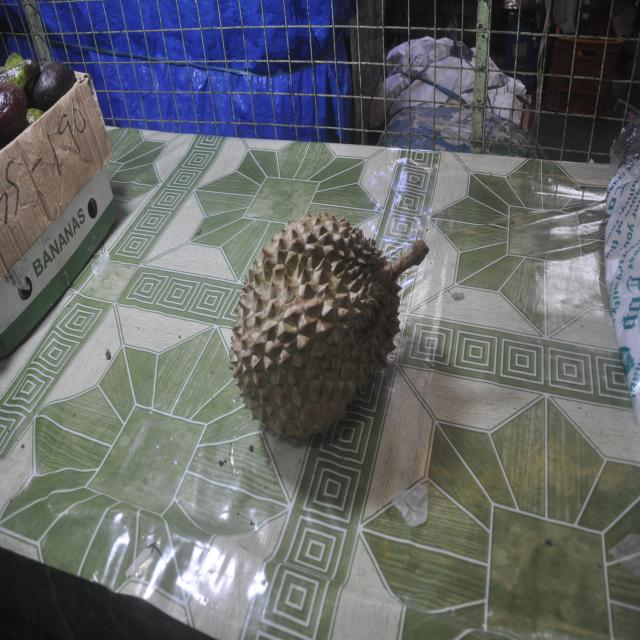mature: (230, 212, 428, 436)
